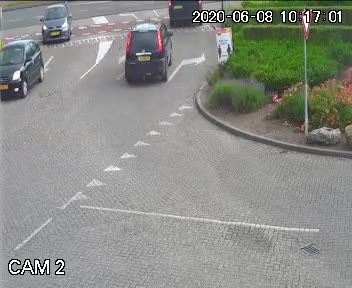car: (118, 16, 172, 88), (0, 39, 48, 101), (150, 0, 212, 34), (37, 3, 74, 47)
